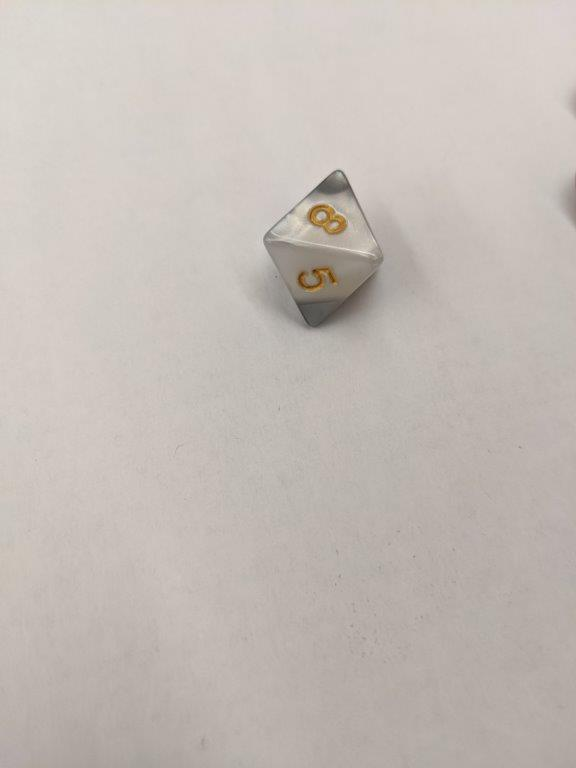d8-8: (265, 167, 384, 327)
